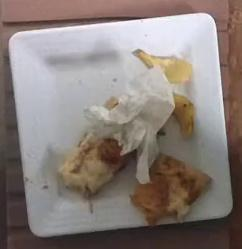fries: (133, 49, 192, 84), (174, 93, 195, 137)
pizza: (59, 133, 127, 197)
pizza_crust: (131, 154, 211, 225)
